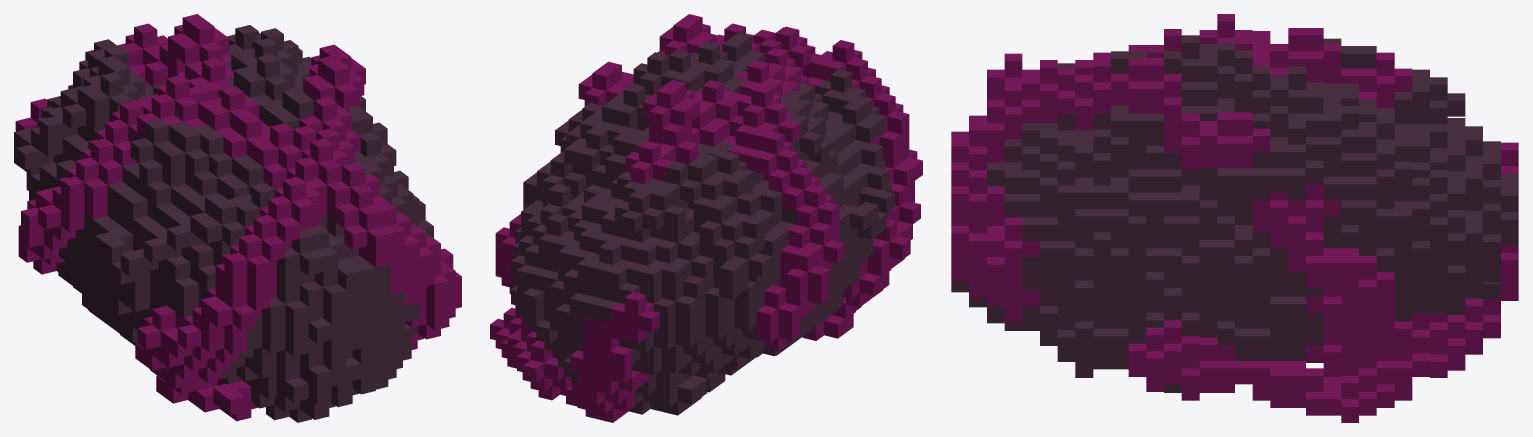
The model's file is VoxelAsteroid.gltf.
3 renders of one model, left to right at view 1: azimuth 30°, elevation 25°; view 2: azimuth 150°, elevation 25°; view 3: azimuth 270°, elevation 25°, orthographic. The views are drawn at different scales.
Size of the model in its own units: 23 by 19 by 32.
Materials: 1 (1 with a texture image).
